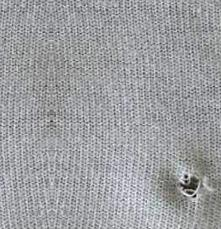hole: (171, 170, 202, 201)
